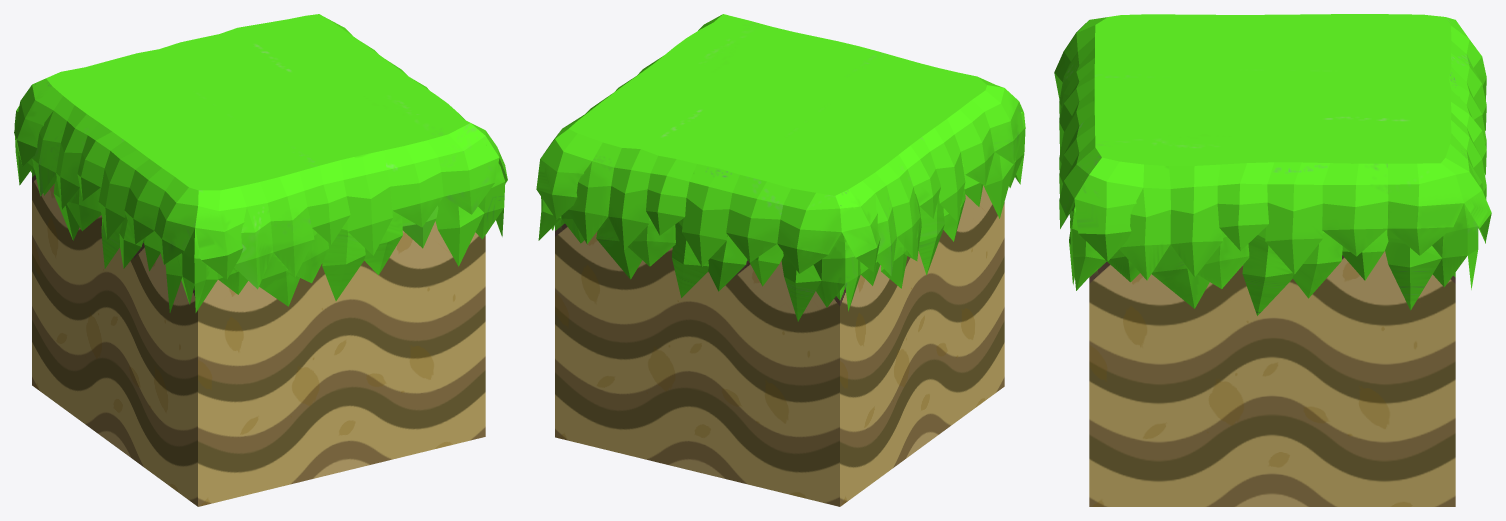
The model's file is stageBox.fbx.
3 views of the same model, side by side, from view 1: azimuth 30°, elevation 25°; view 2: azimuth 150°, elevation 25°; view 3: azimuth 270°, elevation 25° (orthographic). The views are drawn at different scales.
Visible parts, largest first — view 1: Cube; view 2: Cube; view 3: Cube.
Boxes of the visible parts, x1=… form: Cube: x1=14, y1=14, x2=507, y2=506; Cube: x1=536, y1=14, x2=1025, y2=506; Cube: x1=1054, y1=14, x2=1491, y2=506.
Size of the model in its own units: 355 by 311 by 358.
